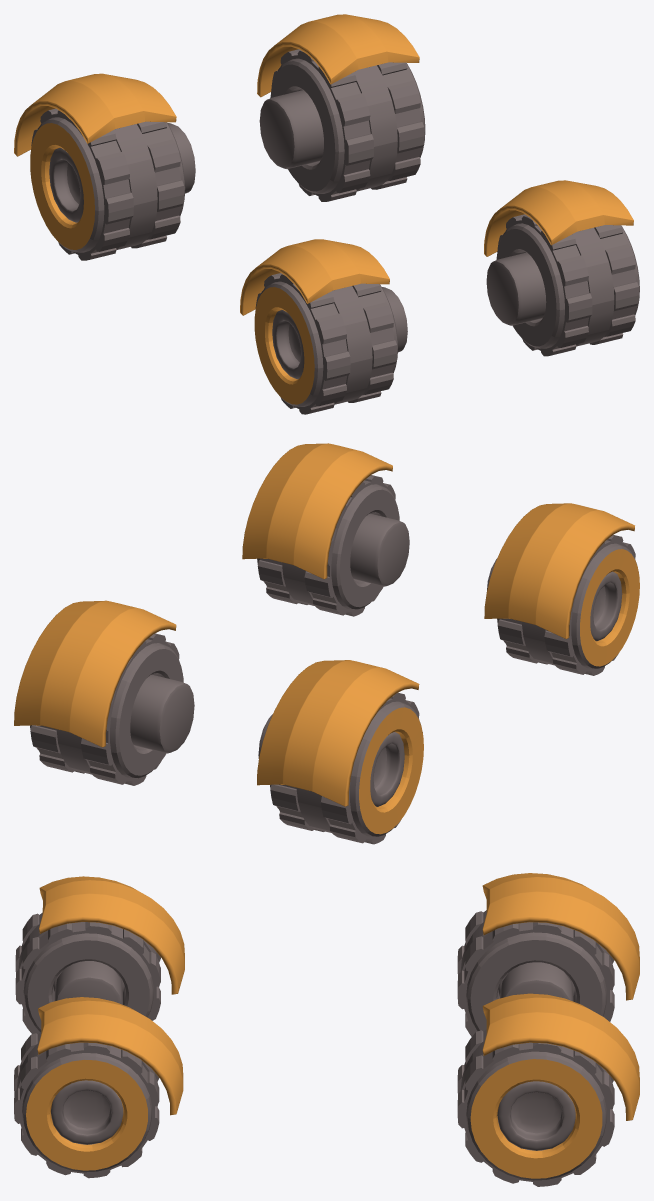
File: WheelsLevel1.fbx
3 renders of one model, top to bottom at view 1: azimuth 30°, elevation 25°; view 2: azimuth 150°, elevation 25°; view 3: azimuth 270°, elevation 25°, orthographic.
Visible parts, largest first — view 1: Cylinder.005, WheelBackLeft, WheelBackRight, WheelFrontLeft, WheelFrontBack; view 2: Cylinder.005, WheelBackLeft, WheelBackRight, WheelFrontLeft, WheelFrontBack; view 3: Cylinder.005, WheelBackLeft, WheelFrontLeft, WheelBackRight, WheelFrontBack.
Boxes of the visible parts, bbox=[...] form: Cylinder.005: bbox=[14, 14, 633, 315]; WheelBackLeft: bbox=[259, 49, 425, 201]; WheelBackRight: bbox=[30, 108, 195, 260]; WheelFrontLeft: bbox=[486, 214, 639, 356]; WheelFrontBack: bbox=[254, 273, 407, 414]; Cylinder.005: bbox=[14, 443, 634, 806]; WheelBackLeft: bbox=[30, 633, 194, 785]; WheelBackRight: bbox=[258, 692, 423, 844]; WheelFrontLeft: bbox=[257, 475, 409, 616]; WheelFrontBack: bbox=[487, 535, 639, 675]; Cylinder.005: bbox=[37, 873, 639, 1120]; WheelBackLeft: bbox=[457, 1029, 614, 1186]; WheelFrontLeft: bbox=[14, 1032, 159, 1178]; WheelBackRight: bbox=[457, 910, 614, 1036]; WheelFrontBack: bbox=[15, 912, 160, 1034].
Bounding box in the file's own units: 682 × 317 × 1096.
